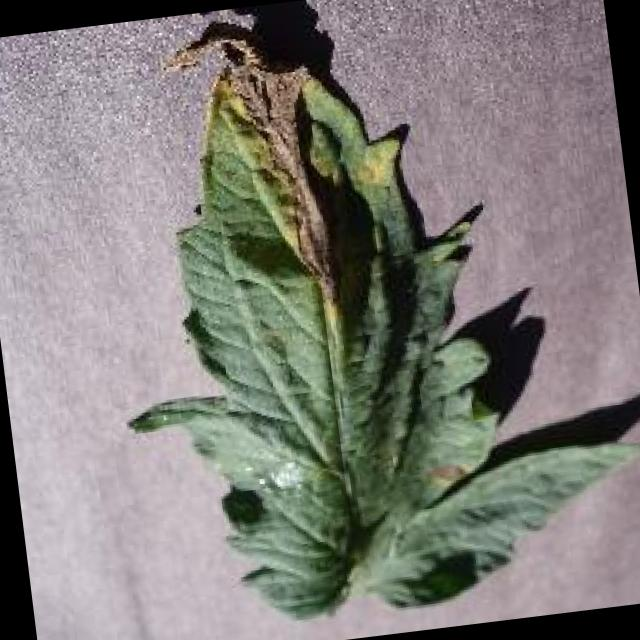Tomato_Early_Blight: (119, 0, 528, 531)
